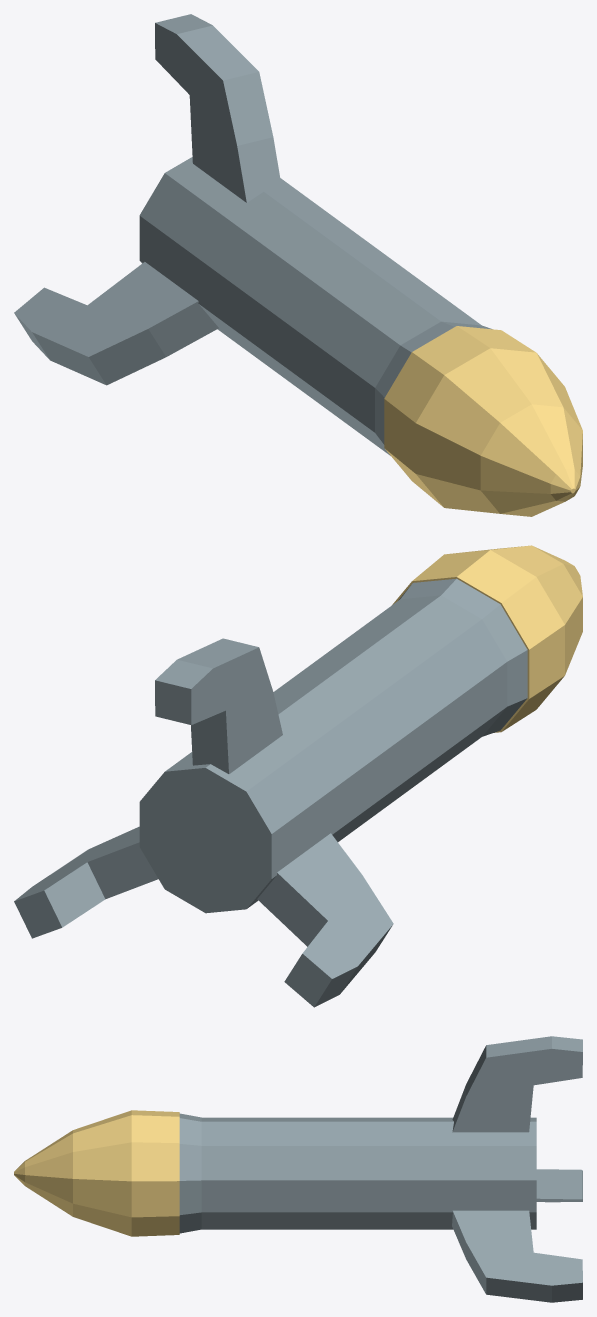
File: Missile.fbx
3 views of the same model, one above another, from view 1: azimuth 30°, elevation 25°; view 2: azimuth 150°, elevation 25°; view 3: azimuth 270°, elevation 25° (orthographic). The views are drawn at different scales.
Visible parts, largest first — view 1: Missile Projectile; view 2: Missile Projectile; view 3: Missile Projectile.
Boxes of the visible parts, bbox=[...] form: Missile Projectile: bbox=[14, 14, 582, 516]; Missile Projectile: bbox=[14, 545, 582, 1007]; Missile Projectile: bbox=[14, 1036, 582, 1302].
Size of the model in its own units: 0.7267 by 0.6293 by 1.55.
